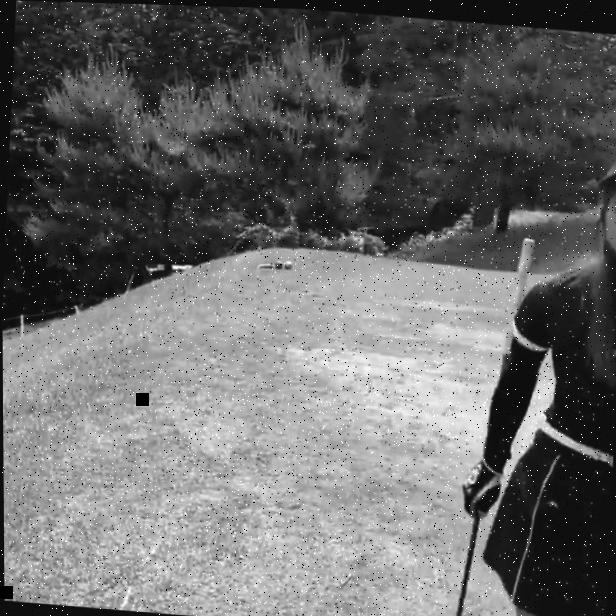GolfBall: (274, 258, 281, 265), (284, 259, 290, 266)
